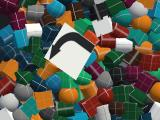Left: (44, 22, 96, 80)
